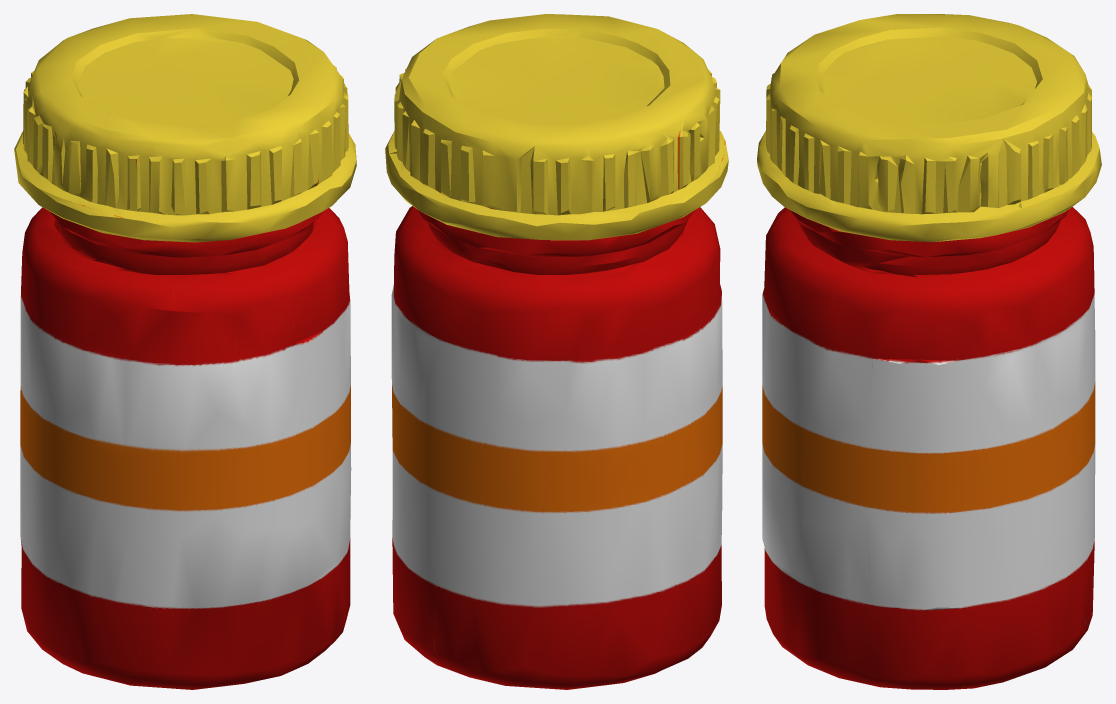
The model's file is Amlodipine.glb.
3 renders of one model, left to right at view 1: azimuth 30°, elevation 25°; view 2: azimuth 150°, elevation 25°; view 3: azimuth 270°, elevation 25°, orthographic.
Parts seen in each view (by area): view 1: geometry_0; view 2: geometry_0; view 3: geometry_0.
Part boxes in pixels (x1,y1,x2,y2): geometry_0: (14, 14, 356, 689); geometry_0: (385, 14, 728, 689); geometry_0: (757, 14, 1101, 689).
Size of the model in its own units: 0.045 by 0.08 by 0.0452.
1 material, 1 textured.
